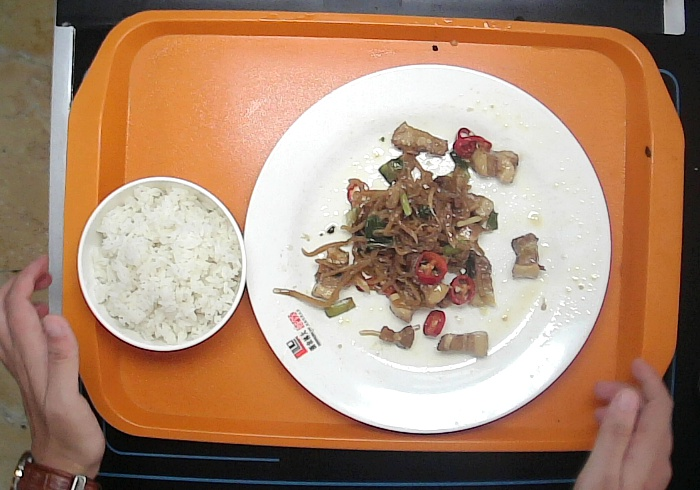ZNLD-Da_Yuan_Pan: (239, 61, 615, 437)
